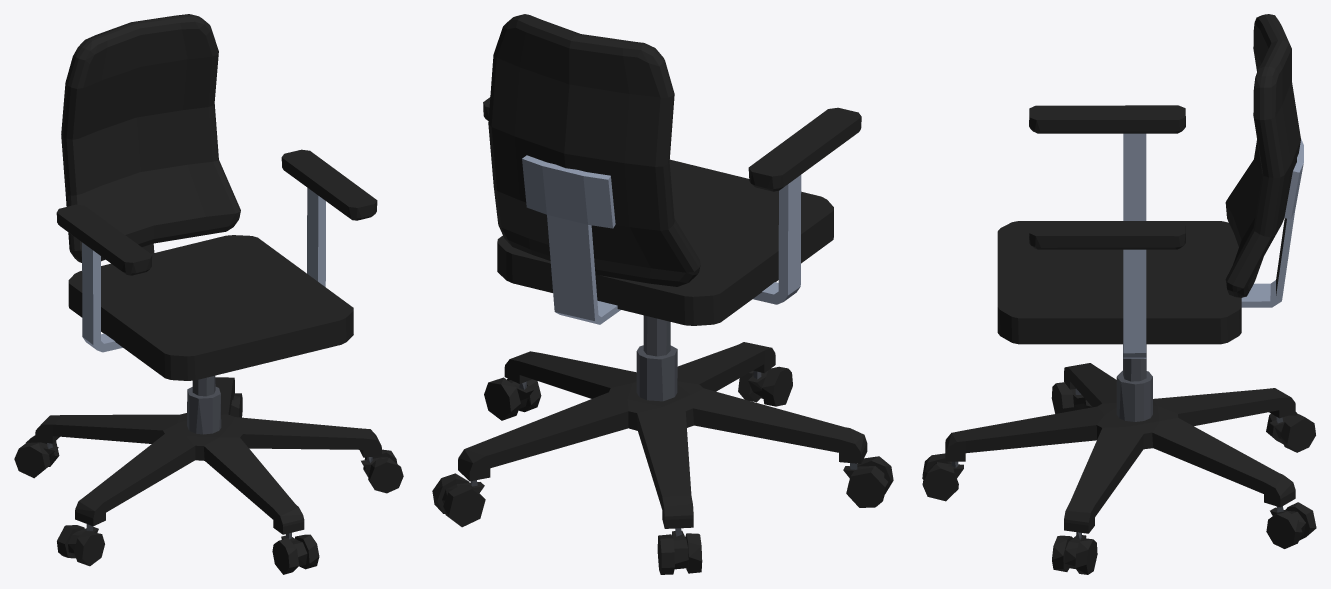
File: OfficeChair_LP.fbx
3 views of the same model, side by side, from view 1: azimuth 30°, elevation 25°; view 2: azimuth 150°, elevation 25°; view 3: azimuth 270°, elevation 25° (orthographic). The views are drawn at different scales.
Parts seen in each view (by area): view 1: OfficeChairLowPoly; view 2: OfficeChairLowPoly; view 3: OfficeChairLowPoly.
Part boxes in pixels (<box>): OfficeChairLowPoly: <box>14,14,403,574</box>; OfficeChairLowPoly: <box>432,14,893,574</box>; OfficeChairLowPoly: <box>922,14,1316,574</box>.
Bounding box in the file's own units: 456 × 434 × 550.
